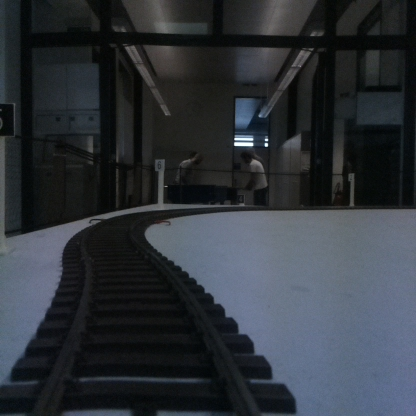white-info-6: (156, 158, 164, 205)
